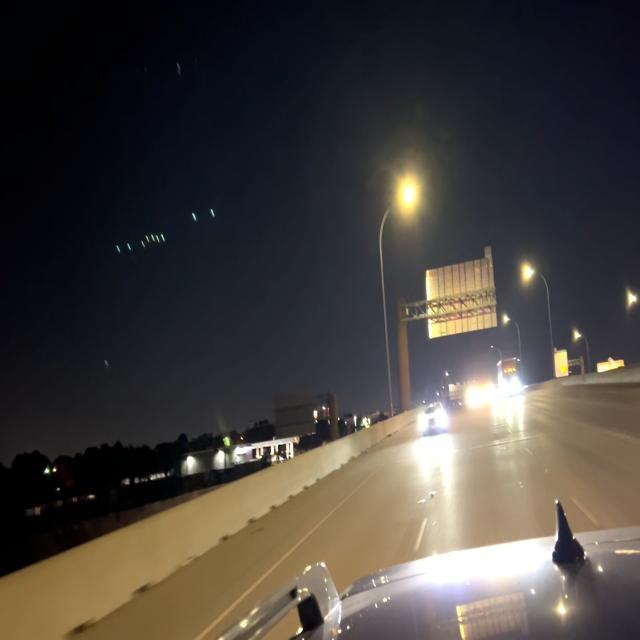back-of-sign: (425, 243, 497, 340)
